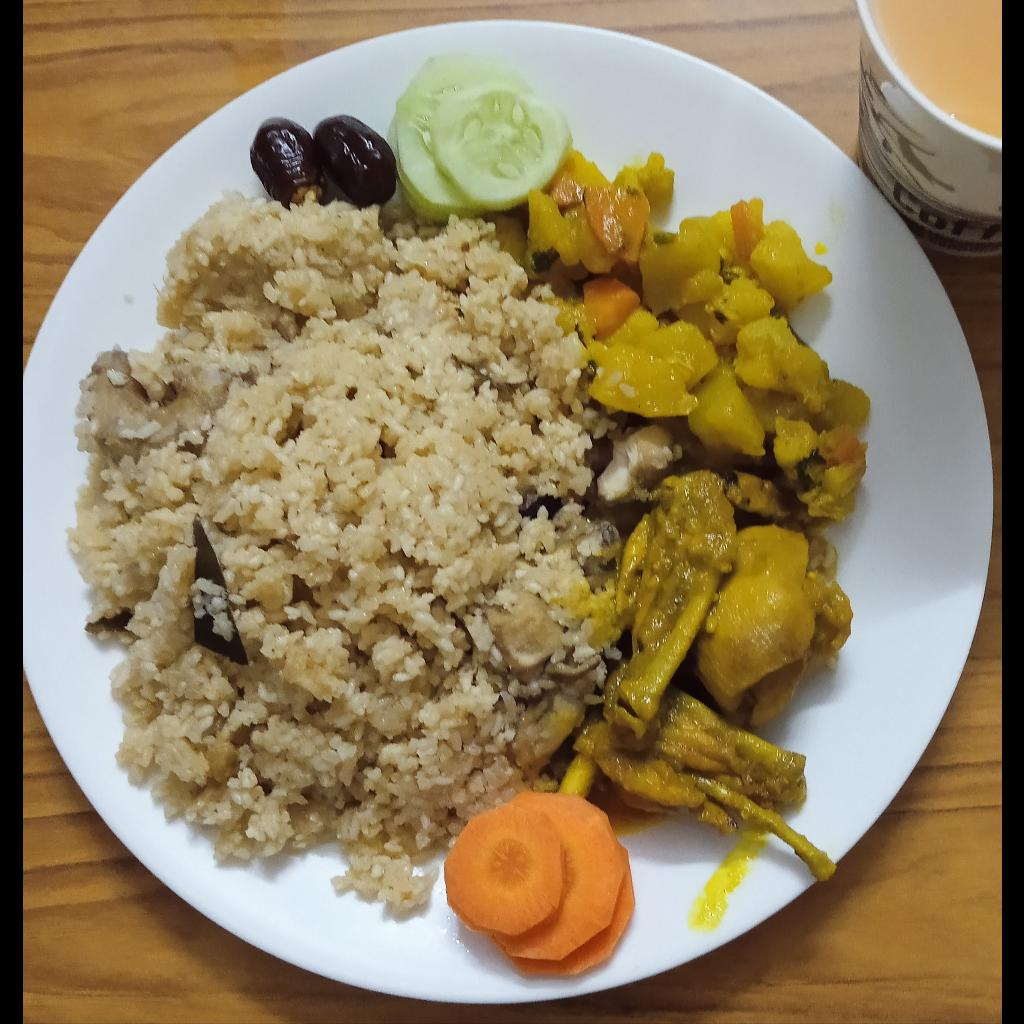biriyani: (63, 192, 686, 919)
carrot: (444, 794, 638, 976)
chicken: (556, 473, 857, 891)
cucumber: (388, 51, 572, 218)
dates: (250, 114, 397, 206)
juice: (873, 0, 1001, 138)
vegetable: (526, 149, 872, 523)
